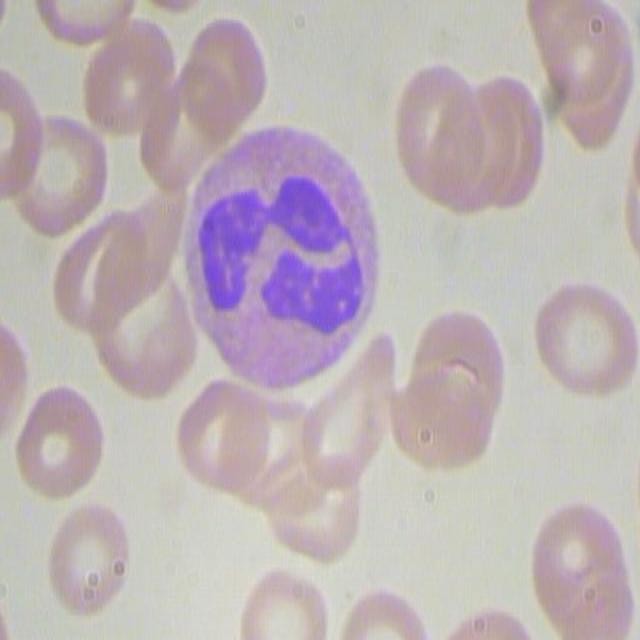RBC: (386, 62, 542, 219), (380, 299, 504, 478), (93, 212, 198, 401), (296, 310, 398, 489), (260, 402, 368, 570), (172, 376, 302, 506), (524, 498, 635, 640), (531, 0, 635, 149), (166, 10, 270, 146), (534, 278, 638, 408), (5, 119, 110, 243), (85, 9, 179, 138), (12, 383, 106, 502), (43, 502, 132, 615), (233, 562, 334, 640), (0, 62, 41, 198), (33, 0, 135, 54)
WBC: (187, 123, 384, 414)
